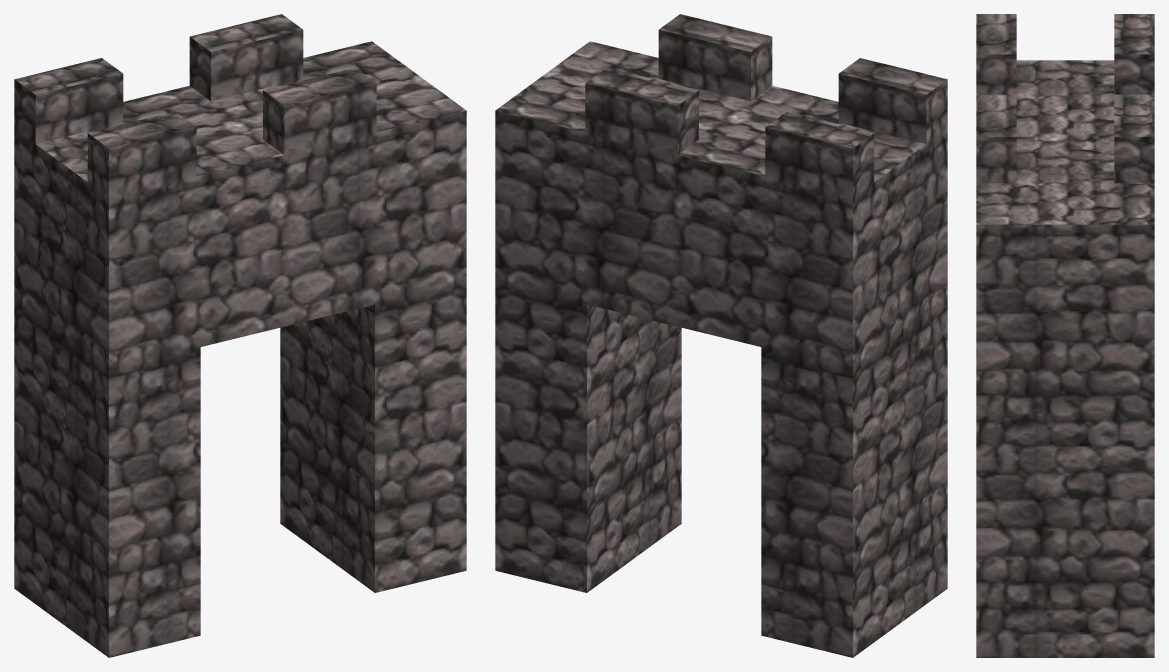
The model's file is MedievalMuroPortaoFBX.fbx.
3 views of the same model, side by side, from view 1: azimuth 30°, elevation 25°; view 2: azimuth 150°, elevation 25°; view 3: azimuth 270°, elevation 25° (orthographic). The views are drawn at different scales.
Parts seen in each view (by area): view 1: Cube; view 2: Cube; view 3: Cube.
Part boxes in pixels (box(x1,y1,x2,y2)): Cube: box(14, 14, 466, 657); Cube: box(495, 14, 947, 657); Cube: box(976, 14, 1154, 657).
Size of the model in its own units: 751 by 1022 by 344.
1 material, 1 textured.
